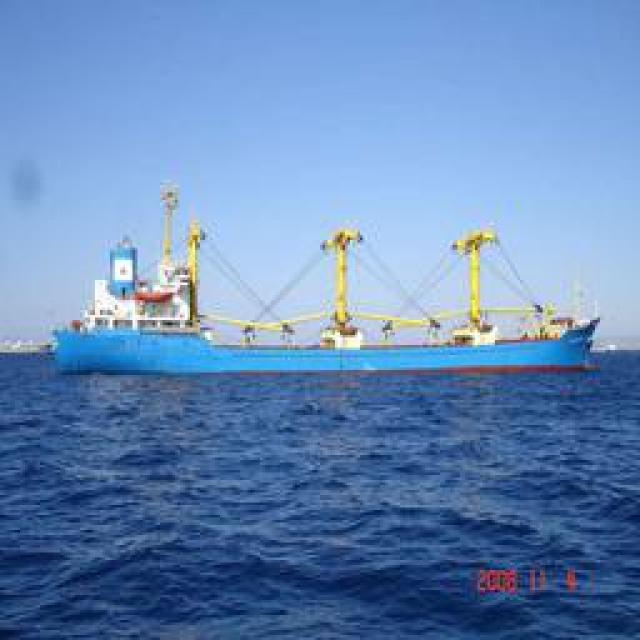Ship: (40, 194, 618, 379)
